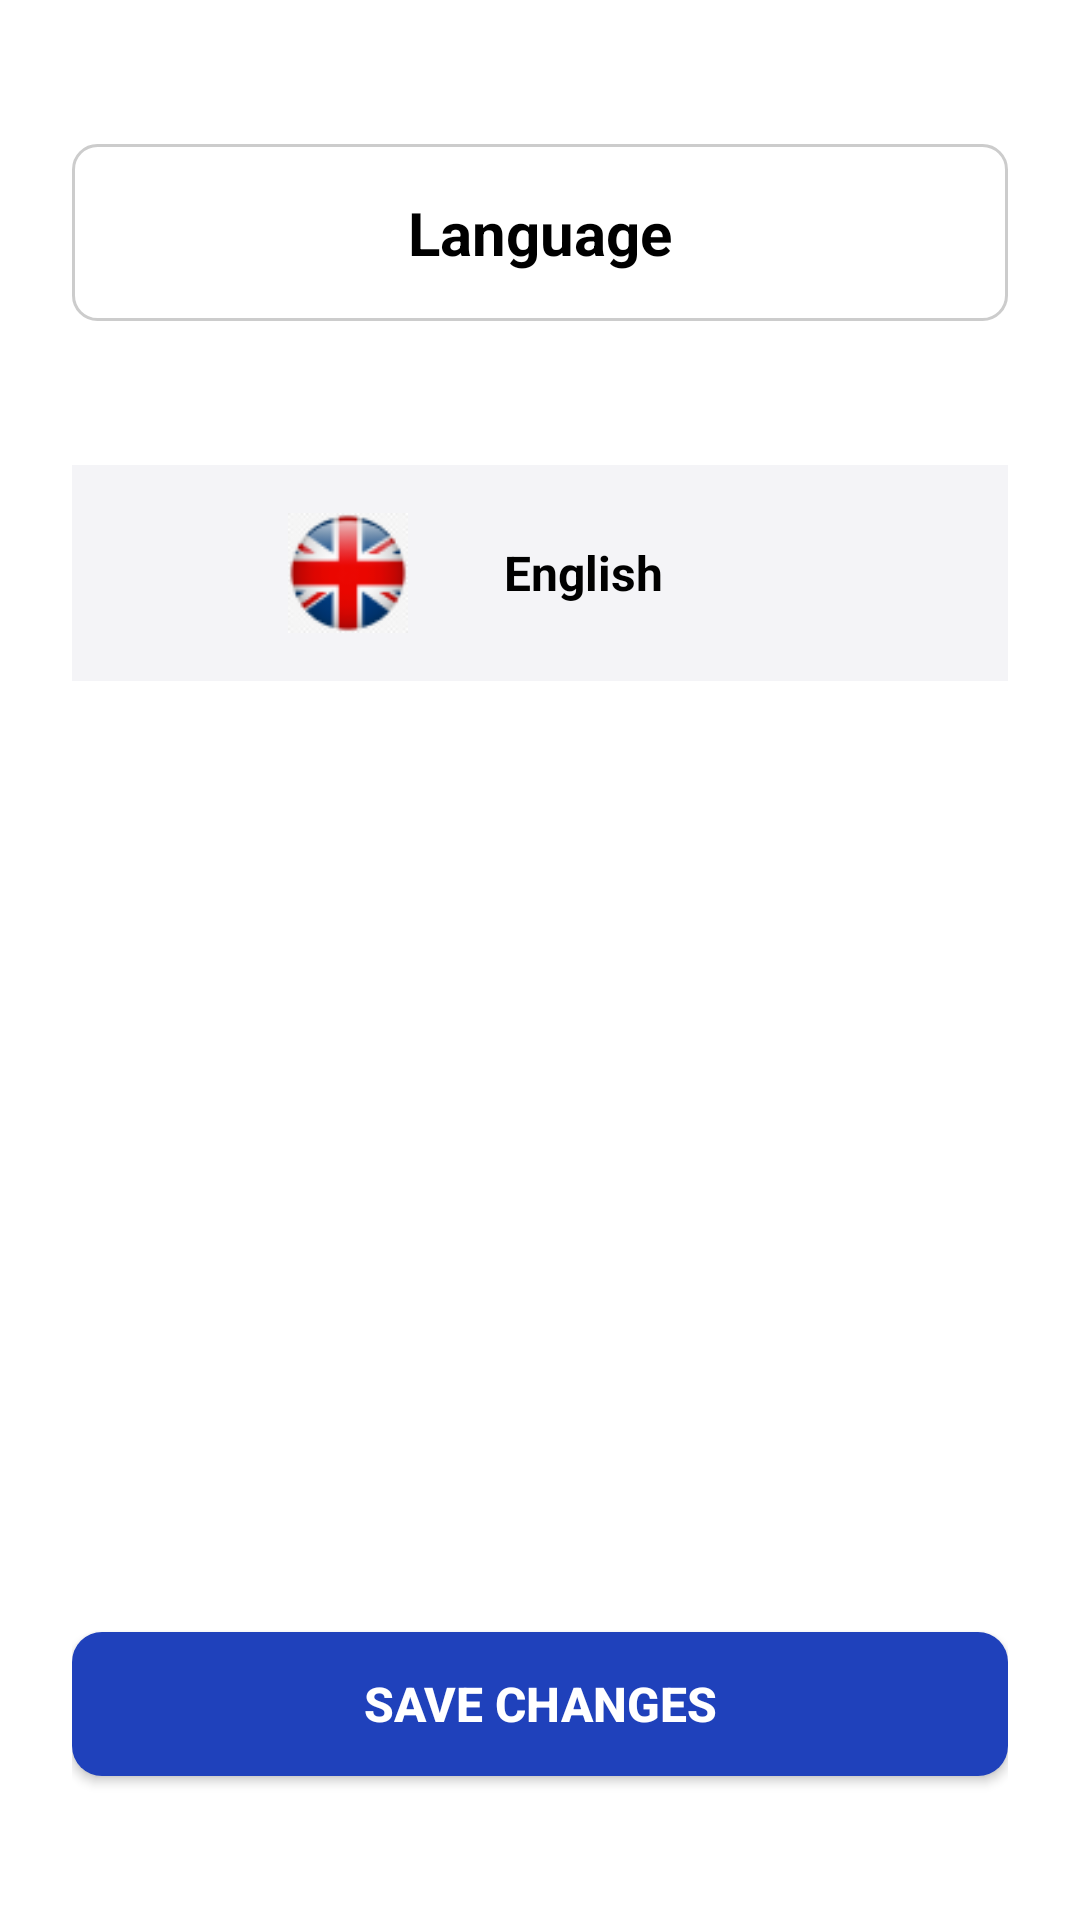

Screen size 1080w x 1920h. Icon name, then its box in pixels as (x1, y1, x2, y2):
Language Flag: (290, 515, 406, 631)
